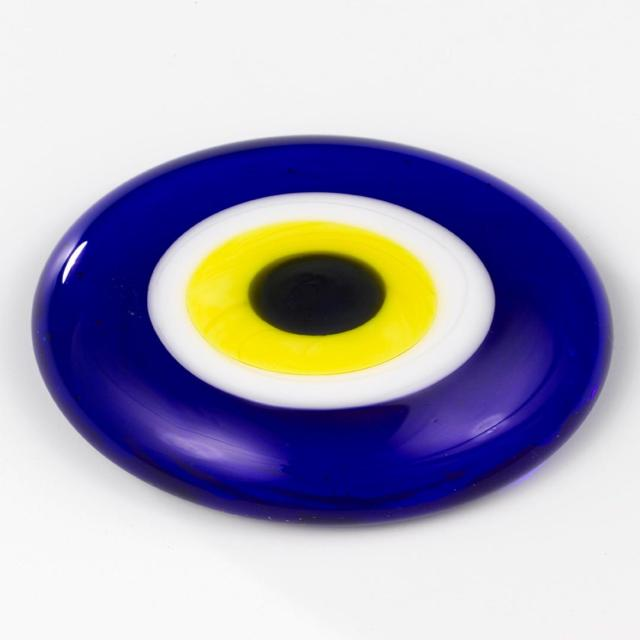Nazar-Boncugu: (31, 137, 612, 524)
